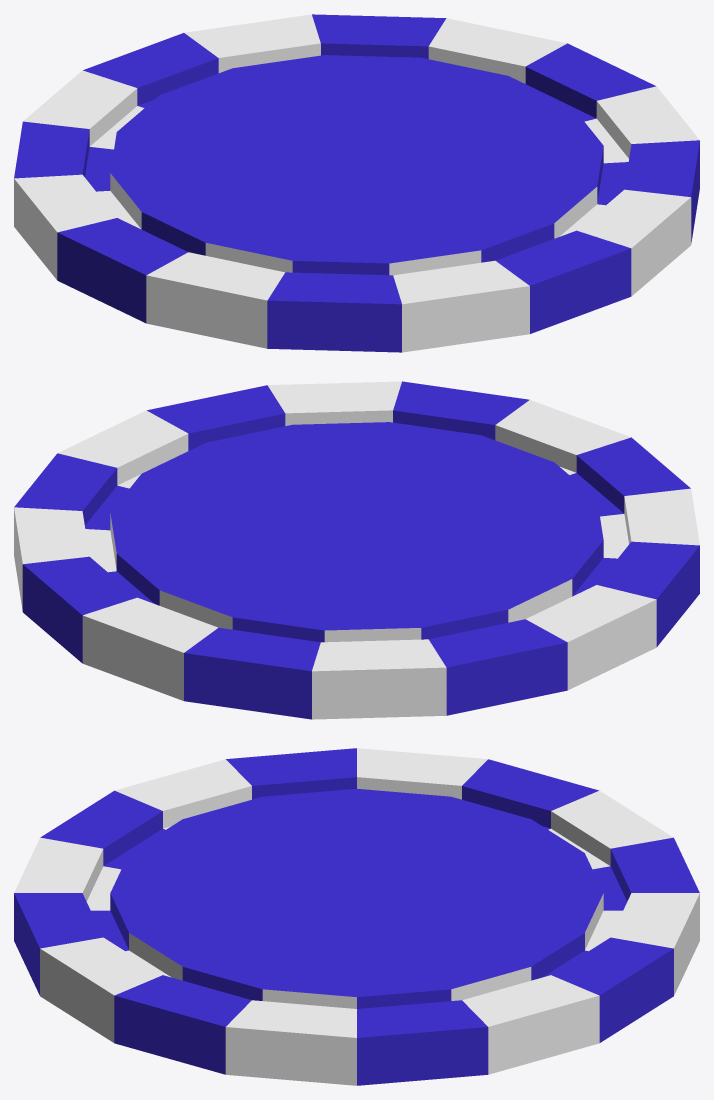
Rendered from BlueishChip.fbx.
3 renders of one model, top to bottom at view 1: azimuth 30°, elevation 25°; view 2: azimuth 150°, elevation 25°; view 3: azimuth 270°, elevation 25°, orthographic.
Parts seen in each view (by area): view 1: Chip.002; view 2: Chip.002; view 3: Chip.002.
Boxes of the visible parts, x1,y1,x2,y2 form: Chip.002: (14,14,699,352); Chip.002: (14,381,699,719); Chip.002: (14,748,699,1085).
Size of the model in its own units: 39 by 3.01 by 39.
